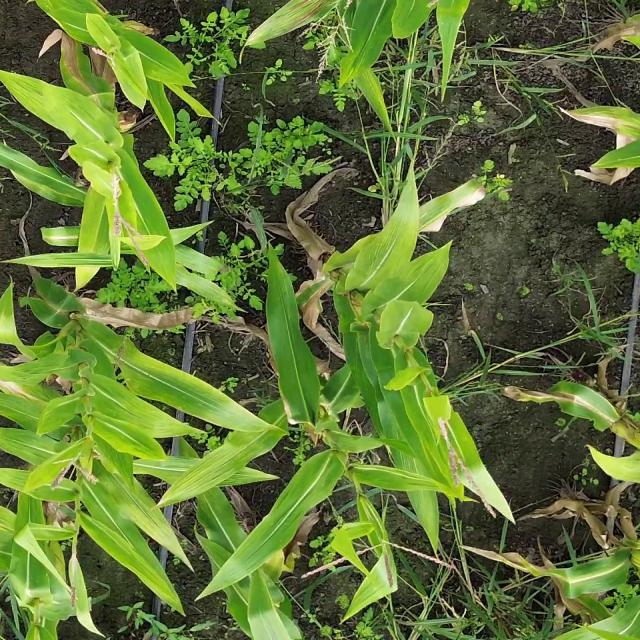gray-leaf-spot: (158, 373, 224, 414), (368, 228, 403, 266), (393, 442, 423, 476)
northern-leaf-blight: (61, 42, 110, 106), (546, 381, 613, 423), (584, 108, 637, 132), (35, 287, 74, 319), (0, 380, 48, 406), (287, 0, 327, 30), (44, 227, 92, 245), (346, 48, 372, 76)
